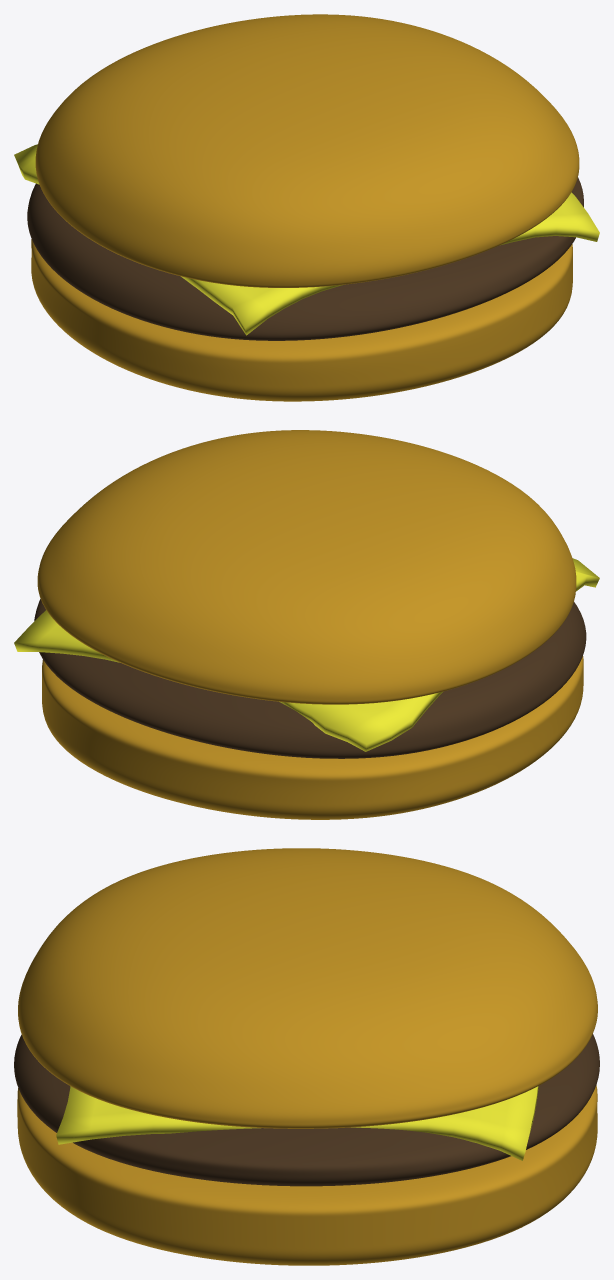
The model's file is hamburger.glb.
3 views of the same model, one above another, from view 1: azimuth 30°, elevation 25°; view 2: azimuth 150°, elevation 25°; view 3: azimuth 270°, elevation 25° (orthographic). The views are drawn at different scales.
Parts seen in each view (by area): view 1: Cube.002, Cube, Cube.001, Plane; view 2: Cube.002, Cube, Cube.001, Plane; view 3: Cube.002, Cube, Cube.001, Plane.
Part boxes in pixels (x1,y1,x2,y2): Cube.002: [35, 14, 579, 287]; Cube: [31, 239, 572, 401]; Cube.001: [27, 177, 583, 340]; Plane: [14, 144, 599, 335]; Cube.002: [37, 430, 576, 704]; Cube: [42, 656, 583, 819]; Cube.001: [34, 599, 586, 758]; Plane: [14, 558, 599, 751]; Cube.002: [18, 848, 597, 1128]; Cube: [17, 1085, 597, 1265]; Cube.001: [14, 1034, 599, 1186]; Plane: [56, 1086, 538, 1160].
Bounding box in the file's own units: 1.89 × 0.9132 × 1.85.
